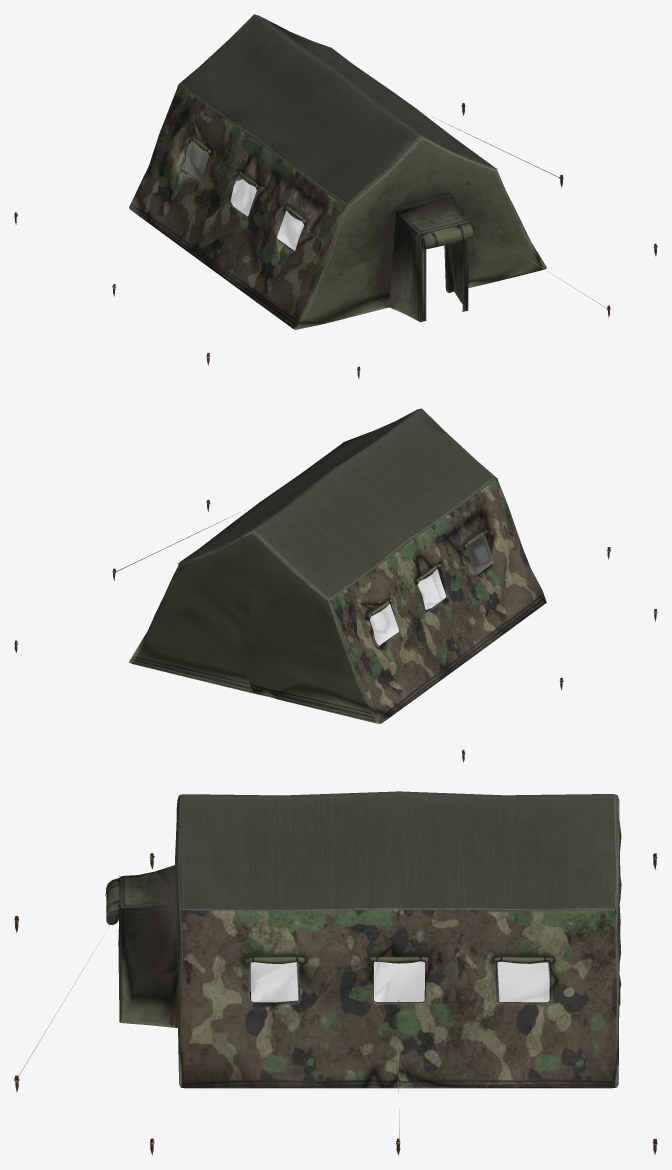
Rendered from p_tent.glb.
3 views of the same model, one above another, from view 1: azimuth 30°, elevation 25°; view 2: azimuth 150°, elevation 25°; view 3: azimuth 270°, elevation 25° (orthographic). The views are drawn at different scales.
Visible parts, largest first — view 1: Military_tent; view 2: Military_tent; view 3: Military_tent.
Part boxes in pixels (x1,y1,x2,y2): Military_tent: (14,14,657,378); Military_tent: (14,408,657,762); Military_tent: (14,791,657,1155).
Size of the model in its own units: 11.17 by 4 by 10.55.
2 materials, 1 textured.
